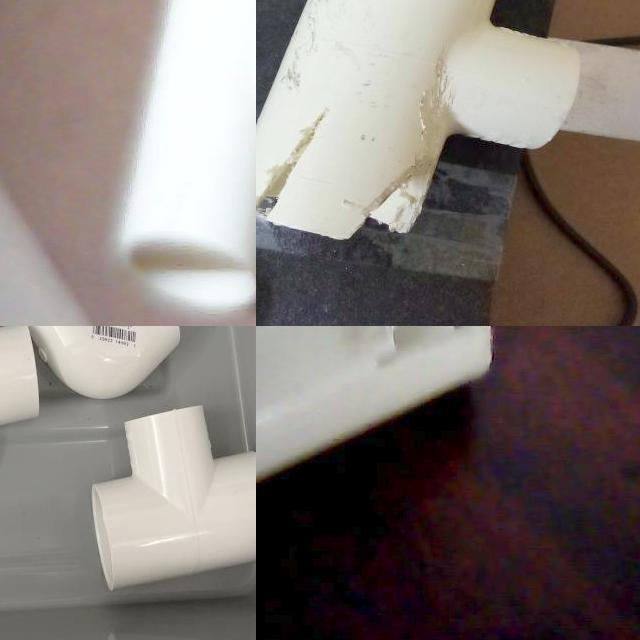Defective: (370, 60, 455, 237), (346, 326, 503, 379), (256, 109, 329, 219)
T Joint: (256, 0, 580, 244), (256, 326, 493, 488), (93, 406, 256, 593)
